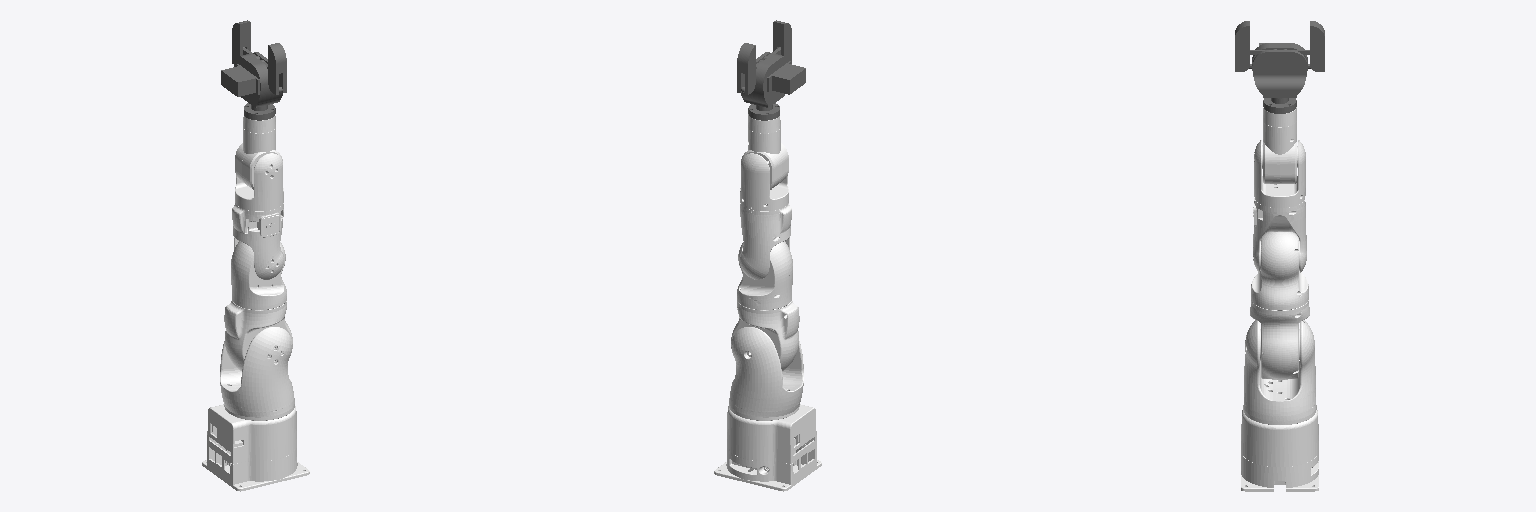
The robot description file, URDF, robot "myarm_300_pi_thorgripper":
<?xml version="1.0" ?>
<robot name="myarm_300_pi_thorgripper">

  <material name="white_arm"><color rgba="1.0 1.0 1.0 1.0"/></material>
  <material name="gray_part"><color rgba="0.5 0.5 0.5 1.0"/></material>

  <link name="world"/>
  <joint name="virtual_fixed_joint" type="fixed">
    <parent link="world"/>
    <child link="base"/>
    <origin xyz="0 0 0" rpy="0 0 0"/>
  </joint>

  <link name="base">
    <inertial><origin xyz="0 0 0" rpy="0 0 0"/><mass value="1.0"/><inertia ixx="0.01" ixy="0.0" ixz="0.0" iyy="0.01" iyz="0.0" izz="0.01"/></inertial>
    <visual><geometry><mesh filename="package://myarm_300_pi/meshes/base.stl"/></geometry><material name="white_arm"/></visual>
    <collision><geometry><mesh filename="package://myarm_300_pi/meshes/base.stl"/></geometry></collision>
  </link>

  <link name="link1">
    <inertial><origin xyz="0 0 0" rpy="0 0 0"/><mass value="0.5"/><inertia ixx="0.01" ixy="0.0" ixz="0.0" iyy="0.01" iyz="0.0" izz="0.01"/></inertial>
    <visual><geometry><mesh filename="package://myarm_300_pi/meshes/j1.stl"/></geometry><origin rpy="0 0 0" xyz="0 0 -0.086"/><material name="white_arm"/></visual>
    <collision><geometry><mesh filename="package://myarm_300_pi/meshes/j1.stl"/></geometry><origin rpy="0 0 0" xyz="0 0 -0.086"/></collision>
  </link>
  <joint name="joint1" type="revolute">
    <axis xyz="0 0 1"/><limit effort="1000.0" lower="-2.7925" upper="2.7925" velocity="2.0"/><parent link="base"/><child link="link1"/><origin rpy="0 0 0" xyz="0 0 0.1695"/>
  </joint>

  <link name="link2">
    <inertial><origin xyz="0 0 0" rpy="0 0 0"/><mass value="0.5"/><inertia ixx="0.01" ixy="0.0" ixz="0.0" iyy="0.01" iyz="0.0" izz="0.01"/></inertial>
    <visual><geometry><mesh filename="package://myarm_300_pi/meshes/j2.stl"/></geometry><origin rpy="3.14159 0 -1.5708" xyz="0 0 0"/><material name="white_arm"/></visual>
    <collision><geometry><mesh filename="package://myarm_300_pi/meshes/j2.stl"/></geometry><origin rpy="3.14159 0 -1.5708" xyz="0 0 0"/></collision>
  </link>
  <joint name="joint2" type="revolute">
    <axis xyz="0 0 1"/><limit effort="1000.0" lower="-1.2217" upper="2.0071" velocity="2.0"/><parent link="link1"/><child link="link2"/><origin rpy="-1.5708 0 0" xyz="0 0 0"/>
  </joint>

  <link name="link3">
    <inertial><origin xyz="0 0 0" rpy="0 0 0"/><mass value="0.5"/><inertia ixx="0.01" ixy="0.0" ixz="0.0" iyy="0.01" iyz="0.0" izz="0.01"/></inertial>
    <visual><geometry><mesh filename="package://myarm_300_pi/meshes/j3.stl"/></geometry><origin rpy="0 0 0" xyz="0 0 -0.056"/><material name="white_arm"/></visual>
    <collision><geometry><mesh filename="package://myarm_300_pi/meshes/j3.stl"/></geometry><origin rpy="0 0 0" xyz="0 0 -0.056"/></collision>
  </link>
  <joint name="joint3" type="revolute">
    <axis xyz="0 0 1"/><limit effort="1000.0" lower="-2.9670" upper="2.9670" velocity="2.0"/><parent link="link2"/><child link="link3"/><origin rpy="1.5708 0 0" xyz="0 -0.1155 0"/>
  </joint>

  <link name="link4">
    <inertial><origin xyz="0 0 0" rpy="0 0 0"/><mass value="0.5"/><inertia ixx="0.01" ixy="0.0" ixz="0.0" iyy="0.01" iyz="0.0" izz="0.01"/></inertial>
    <visual><geometry><mesh filename="package://myarm_300_pi/meshes/j4.stl"/></geometry><origin rpy="0 0 1.5708" xyz="0 0 0"/><material name="white_arm"/></visual>
    <collision><geometry><mesh filename="package://myarm_300_pi/meshes/j4.stl"/></geometry><origin rpy="0 0 1.5708" xyz="0 0 0"/></collision>
  </link>
  <joint name="joint4" type="revolute">
    <axis xyz="0 0 1"/><limit effort="1000.0" lower="-1.9722" upper="1.3089" velocity="2.0"/><parent link="link3"/><child link="link4"/><origin rpy="1.5708 0 0" xyz="0 0 0"/>
  </joint>

  <link name="link5">
    <inertial><origin xyz="0 0 0" rpy="0 0 0"/><mass value="0.5"/><inertia ixx="0.01" ixy="0.0" ixz="0.0" iyy="0.01" iyz="0.0" izz="0.01"/></inertial>
    <visual><geometry><mesh filename="package://myarm_300_pi/meshes/j5.stl"/></geometry><origin rpy="0 0 0" xyz="0 0 -0.0525"/><material name="white_arm"/></visual>
    <collision><geometry><mesh filename="package://myarm_300_pi/meshes/j5.stl"/></geometry><origin rpy="0 0 0" xyz="0 0 -0.0525"/></collision>
  </link>
  <joint name="joint5" type="revolute">
    <axis xyz="0 0 1"/><limit effort="1000.0" lower="-2.9670" upper="2.9670" velocity="2.0"/><parent link="link4"/><child link="link5"/><origin rpy="-1.5708 0 0" xyz="0 0.1278 0"/>
  </joint>

  <link name="link6">
    <inertial><origin xyz="0 0 0" rpy="0 0 0"/><mass value="0.5"/><inertia ixx="0.01" ixy="0.0" ixz="0.0" iyy="0.01" iyz="0.0" izz="0.01"/></inertial>
    <visual><geometry><mesh filename="package://myarm_300_pi/meshes/j6.stl"/></geometry><origin rpy="0 0 1.5708" xyz="0 0 0"/><material name="white_arm"/></visual>
    <collision><geometry><mesh filename="package://myarm_300_pi/meshes/j6.stl"/></geometry><origin rpy="0 0 1.5708" xyz="0 0 0"/></collision>
  </link>
  <joint name="joint6" type="revolute">
    <axis xyz="0 0 1"/><limit effort="1000.0" lower="-2.0071" upper="2.0071" velocity="2.0"/><parent link="link5"/><child link="link6"/><origin rpy="1.5708 0 0" xyz="0 0 0"/>
  </joint>

  <link name="link7">
    <inertial><origin xyz="0 0 0" rpy="0 0 0"/><mass value="0.5"/><inertia ixx="0.01" ixy="0.0" ixz="0.0" iyy="0.01" iyz="0.0" izz="0.01"/></inertial>
    <visual><geometry><mesh filename="package://myarm_300_pi/meshes/j7.stl"/></geometry><origin rpy="0 0 0" xyz="0.0002 -0.0002 -0.0185"/><material name="white_arm"/></visual>
    <collision><geometry><mesh filename="package://myarm_300_pi/meshes/j7.stl"/></geometry><origin rpy="0 0 0" xyz="0.0002 -0.0002 -0.0185"/></collision>
  </link>
  <joint name="joint7" type="revolute">
    <axis xyz="0 0 1"/><limit effort="1000.0" lower="-3.14159" upper="3.14159" velocity="2.0"/><parent link="link6"/><child link="link7"/><origin rpy="-1.5708 0 0" xyz="0 0.066 0"/>
  </joint>

  <link name="flange_link">
    <inertial><origin xyz="0 0 0" rpy="0 0 0"/><mass value="0.05"/><inertia ixx="0.001" ixy="0.0" ixz="0.0" iyy="0.001" iyz="0.0" izz="0.001"/></inertial>
    <visual><geometry><mesh filename="package://myarm_300_pi/meshes/flange.stl" scale="0.001 0.001 0.001"/></geometry><material name="gray_part"/></visual>
    <collision><geometry><mesh filename="package://myarm_300_pi/meshes/flange.stl" scale="0.001 0.001 0.001"/></geometry></collision>
  </link>
  <joint name="flange_joint" type="fixed">
    <parent link="link7"/><child link="flange_link"/><origin xyz="0 0 -0.001" rpy="0 0 0"/>
  </joint>

  <link name="gripper_base">
    <inertial><mass value="0.2"/><inertia ixx="0.001" ixy="0.0" ixz="0.0" iyy="0.001" iyz="0.0" izz="0.001"/></inertial>
    <visual><geometry><mesh filename="package://myarm_300_pi/meshes/GripperBase.stl" scale="0.001 0.001 0.001"/></geometry><material name="gray_part"/></visual>
    <collision><origin rpy="0 0 0" xyz="0 0 0.0275"/><geometry><box size="0.065 0.0348 0.055"/></geometry></collision>
  </link>
  <joint name="joint7_to_gripper_base" type="fixed">
    <parent link="flange_link"/><child link="gripper_base"/><origin rpy="0 0 1.5708" xyz="0 0 0.02"/>
  </joint>

  <link name="gripper_mid_point"><inertial><mass value="0.01"/><inertia ixx="0.001" ixy="0" ixz="0" iyy="0.001" iyz="0" izz="0.001"/></inertial></link>
  <link name="gripper_arm_gear_right"><inertial><mass value="0.01"/><inertia ixx="0.001" ixy="0" ixz="0" iyy="0.001" iyz="0" izz="0.001"/></inertial><visual><origin rpy="0 -1.57 1.57"/><geometry><mesh filename="package://myarm_300_pi/meshes/GripperArmGear.stl" scale="0.001 0.001 0.001"/></geometry><material name="gray_part"/></visual><collision><origin xyz="0.0175 -0.0025 0.0"/><geometry><box size="0.035 0.005 0.004"/></geometry></collision></link>
  <link name="gripper_arm_gear_left"><inertial><mass value="0.01"/><inertia ixx="0.001" ixy="0" ixz="0" iyy="0.001" iyz="0" izz="0.001"/></inertial><visual><origin rpy="0 1.57 -1.57"/><geometry><mesh filename="package://myarm_300_pi/meshes/GripperArmGear.stl" scale="0.001 0.001 0.001"/></geometry><material name="gray_part"/></visual><collision><origin xyz="-0.0175 -0.0025 0.0"/><geometry><box size="0.035 0.005 0.004"/></geometry></collision></link>
  <link name="gripper_arm_simple_right"><inertial><mass value="0.01"/><inertia ixx="0.001" ixy="0" ixz="0" iyy="0.001" iyz="0" izz="0.001"/></inertial><visual><origin rpy="0 -1.57 1.57"/><geometry><mesh filename="package://myarm_300_pi/meshes/GripperArm.stl" scale="0.001 0.001 0.001"/></geometry><material name="gray_part"/></visual><collision><origin xyz="0.0175 -0.0025 0.0"/><geometry><box size="0.035 0.005 0.004"/></geometry></collision></link>
  <link name="gripper_arm_simple_left"><inertial><mass value="0.01"/><inertia ixx="0.001" ixy="0" ixz="0" iyy="0.001" iyz="0" izz="0.001"/></inertial><visual><origin rpy="0 1.57 -1.57"/><geometry><mesh filename="package://myarm_300_pi/meshes/GripperArm.stl" scale="0.001 0.001 0.001"/></geometry><material name="gray_part"/></visual><collision><origin xyz="-0.0175 -0.0025 0.0"/><geometry><box size="0.035 0.005 0.004"/></geometry></collision></link>
  <link name="gripper_finger_right"><inertial><mass value="0.01"/><inertia ixx="0.001" ixy="0" ixz="0" iyy="0.001" iyz="0" izz="0.001"/></inertial><visual><origin rpy="0 0 0" xyz="0 0 0"/><geometry><mesh filename="package://myarm_300_pi/meshes/GripperFinger.stl" scale="0.001 0.001 0.001"/></geometry><material name="gray_part"/></visual><collision><origin xyz="0.00525 0.026 0.00775"/><geometry><box size="0.0185 0.06 0.0155"/></geometry></collision></link>
  <link name="gripper_finger_left"><inertial><mass value="0.01"/><inertia ixx="0.001" ixy="0" ixz="0" iyy="0.001" iyz="0" izz="0.001"/></inertial><visual><origin rpy="0 0 0" xyz="0 0 0"/><geometry><mesh filename="package://myarm_300_pi/meshes/GripperFinger.stl" scale="0.001 0.001 0.001"/></geometry><material name="gray_part"/></visual><collision><origin xyz="0.00525 0.026 0.00775"/><geometry><box size="0.0185 0.06 0.0155"/></geometry></collision></link>
  <link name="endeffector"><inertial><mass value="0.01"/><inertia ixx="0.001" ixy="0" ixz="0" iyy="0.001" iyz="0" izz="0.001"/></inertial></link>

  <joint name="gripperbase_to_midpoint" type="fixed"><parent link="gripper_base"/><child link="gripper_mid_point"/><origin rpy="0 0 0" xyz="0 0 0.075"/></joint>
  <joint name="link7_to_endeffector" type="fixed"><parent link="link7"/><child link="endeffector"/><origin rpy="0 0 0" xyz="0 0 0.1"/></joint>

  <joint name="endeffector_gripper" type="revolute">
    <parent link="gripper_base"/><child link="gripper_arm_gear_right"/><origin rpy="0 0 0" xyz="0.0145 0.00275 0.0325"/><axis xyz="0 1 0"/><limit effort="4.0" lower="-1.57" upper="0" velocity="1.0"/>
  </joint>

  <joint name="gripperbase_to_armgearleft" type="revolute">
    <parent link="gripper_base"/><child link="gripper_arm_gear_left"/><origin rpy="0 0 0" xyz="-0.0145 0.00275 0.0325"/><axis xyz="0 1 0"/><limit effort="4.0" lower="0" upper="1.57" velocity="1.0"/><mimic joint="endeffector_gripper" multiplier="-1"/>
  </joint>

  <joint name="gripperbase_to_armsimpleright" type="revolute">
    <parent link="gripper_base"/><child link="gripper_arm_simple_right"/><origin rpy="0 0 0" xyz="0.006 0.00275 0.051"/><axis xyz="0 1 0"/><limit effort="4.0" lower="-1.57" upper="0" velocity="1.0"/><mimic joint="endeffector_gripper" multiplier="1"/>
  </joint>

  <joint name="gripperbase_to_armsimpleleft" type="revolute">
    <parent link="gripper_base"/><child link="gripper_arm_simple_left"/><origin rpy="0 0 0" xyz="-0.006 0.00275 0.051"/><axis xyz="0 1 0"/><limit effort="4.0" lower="0" upper="1.57" velocity="1.0"/><mimic joint="endeffector_gripper" multiplier="-1"/>
  </joint>

  <joint name="armgearright_to_fingerright" type="revolute">
    <parent link="gripper_arm_gear_right"/><child link="gripper_finger_right"/><origin rpy="-1.57 3.14 0" xyz="0.035 -0.01023 0"/><axis xyz="0 0 1"/><limit effort="4.0" lower="0" upper="1.57" velocity="1.0"/><mimic joint="endeffector_gripper" multiplier="-1"/>
  </joint>

  <joint name="armgearleft_to_fingerleft" type="revolute">
    <parent link="gripper_arm_gear_left"/><child link="gripper_finger_left"/><origin rpy="1.57 0 0" xyz="-0.035 0.005175 0"/><axis xyz="0 0 1"/><limit effort="4.0" lower="0" upper="1.57" velocity="1.0"/><mimic joint="endeffector_gripper" multiplier="-1"/>
  </joint>

  <gazebo>
    <plugin filename="libgazebo_ros2_control.so" name="gazebo_ros2_control">
      <parameters>/home/vkaratrantos/elephant_robots_ws/src/robot_config/config/ros2_controllers.yaml</parameters>
    </plugin>
  </gazebo>

  <ros2_control name="GazeboSystem" type="system">
    <hardware><plugin>gazebo_ros2_control/GazeboSystem</plugin></hardware>
    
    <joint name="joint1"><command_interface name="position"/><state_interface name="position"/><state_interface name="velocity"/></joint>
    <joint name="joint2"><command_interface name="position"/><state_interface name="position"/><state_interface name="velocity"/></joint>
    <joint name="joint3"><command_interface name="position"/><state_interface name="position"/><state_interface name="velocity"/></joint>
    <joint name="joint4"><command_interface name="position"/><state_interface name="position"/><state_interface name="velocity"/></joint>
    <joint name="joint5"><command_interface name="position"/><state_interface name="position"/><state_interface name="velocity"/></joint>
    <joint name="joint6"><command_interface name="position"/><state_interface name="position"/><state_interface name="velocity"/></joint>
    <joint name="joint7"><command_interface name="position"/><state_interface name="position"/><state_interface name="velocity"/></joint>

    <joint name="endeffector_gripper"><command_interface name="position"/><state_interface name="position"/><state_interface name="velocity"/></joint>
    
    <joint name="gripperbase_to_armgearleft"><command_interface name="position"/><state_interface name="position"/><state_interface name="velocity"/></joint>
    <joint name="gripperbase_to_armsimpleright"><command_interface name="position"/><state_interface name="position"/><state_interface name="velocity"/></joint>
    <joint name="gripperbase_to_armsimpleleft"><command_interface name="position"/><state_interface name="position"/><state_interface name="velocity"/></joint>
    <joint name="armgearright_to_fingerright"><command_interface name="position"/><state_interface name="position"/><state_interface name="velocity"/></joint>
    <joint name="armgearleft_to_fingerleft"><command_interface name="position"/><state_interface name="position"/><state_interface name="velocity"/></joint>
  </ros2_control>

</robot>

--- What the picture shows (computed from the rendered views, not written in the file) ---
Views: 3 orthographic renders of the robot side by side, from view 1: azimuth 30°, elevation 25°; view 2: azimuth 150°, elevation 25°; view 3: azimuth 270°, elevation 25°.
Model myarm_300_pi_thorgripper with 19 links and 18 joints (13 revolute, 5 fixed), rooted at world, posed all joints at 0.
Links seen in each view (by area): view 1: base, link1, link4, link3, link2, link5, gripper_base, link6, gripper_finger_left, gripper_finger_right; view 2: base, link1, link4, link3, link2, gripper_base, link5, link6, gripper_finger_right, gripper_finger_left; view 3: base, link1, link3, link2, gripper_base, link6, link4, link5, gripper_finger_right, gripper_finger_left.
Link boxes in pixels (left/top/right/bottom): base: left=202, top=404, right=309, bottom=491; link1: left=220, top=327, right=294, bottom=420; link4: left=232, top=203, right=283, bottom=279; link3: left=231, top=241, right=286, bottom=309; link2: left=224, top=301, right=292, bottom=370; link5: left=235, top=153, right=283, bottom=210; gripper_base: left=221, top=52, right=282, bottom=107; link6: left=235, top=128, right=282, bottom=189; gripper_finger_left: left=268, top=43, right=286, bottom=94; gripper_finger_right: left=232, top=20, right=250, bottom=63; base: left=714, top=404, right=821, bottom=491; link1: left=729, top=327, right=803, bottom=420; link4: left=740, top=203, right=791, bottom=279; link3: left=737, top=241, right=792, bottom=309; link2: left=731, top=301, right=799, bottom=370; gripper_base: left=741, top=52, right=805, bottom=107; link5: left=740, top=153, right=788, bottom=210; link6: left=741, top=128, right=788, bottom=189; gripper_finger_right: left=737, top=43, right=755, bottom=94; gripper_finger_left: left=773, top=20, right=791, bottom=63; base: left=1241, top=410, right=1318, bottom=491; link1: left=1243, top=320, right=1316, bottom=424; link3: left=1251, top=232, right=1308, bottom=310; link2: left=1250, top=300, right=1309, bottom=379; gripper_base: left=1252, top=43, right=1307, bottom=97; link6: left=1262, top=122, right=1297, bottom=183; link4: left=1253, top=198, right=1306, bottom=272; link5: left=1254, top=140, right=1305, bottom=207; gripper_finger_right: left=1310, top=21, right=1324, bottom=71; gripper_finger_left: left=1235, top=21, right=1249, bottom=71.
Bounding box of the posed robot: 0.1029 × 0.107 × 0.5863 m (x, y, z).
16 mesh visuals loaded from 13 distinct referenced files (13 binary STL).
